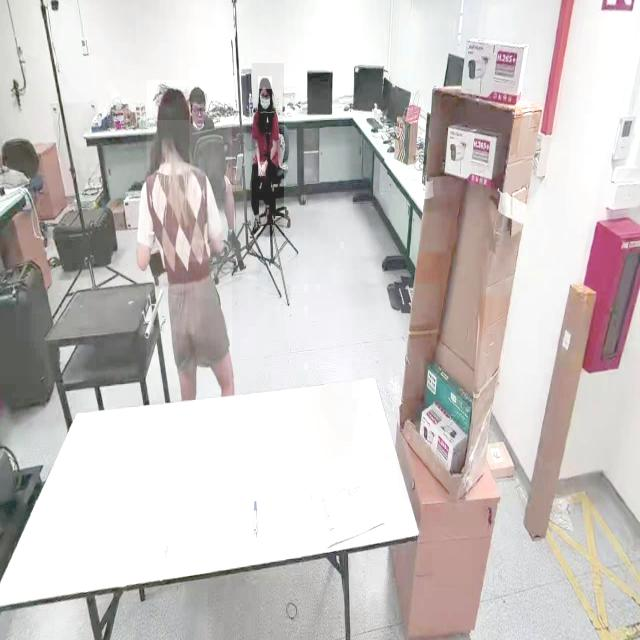face_mask: (259, 85, 271, 111)
face_nomask: (191, 105, 205, 124)
hand_noglove: (258, 162, 266, 177), (257, 162, 263, 178)
head_nohelmet: (157, 86, 189, 121), (188, 85, 205, 103), (258, 76, 272, 90)
person: (146, 80, 232, 402), (189, 68, 247, 262), (252, 63, 284, 237)
